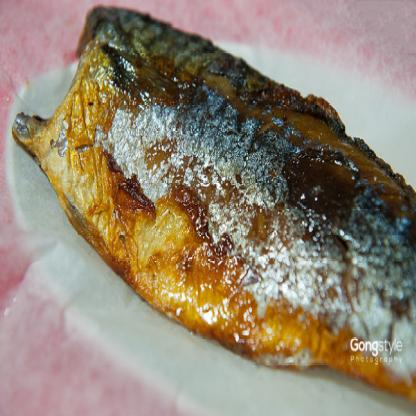Peixe: (11, 0, 416, 382)
